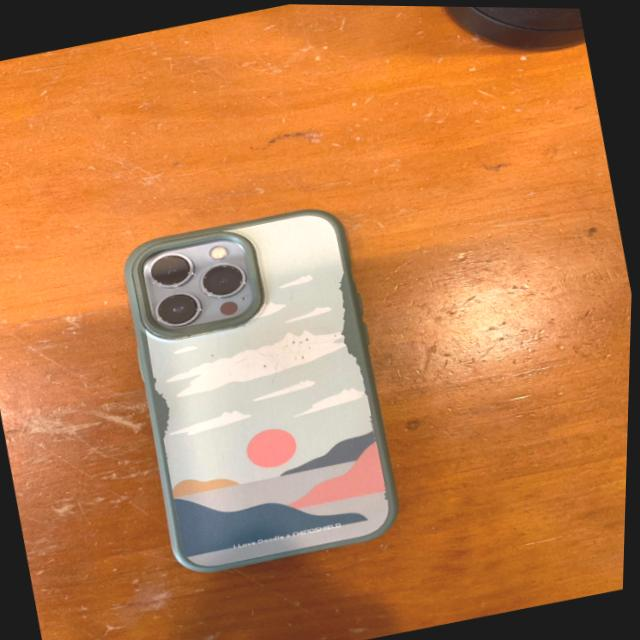Smartphone: (99, 197, 422, 607)
